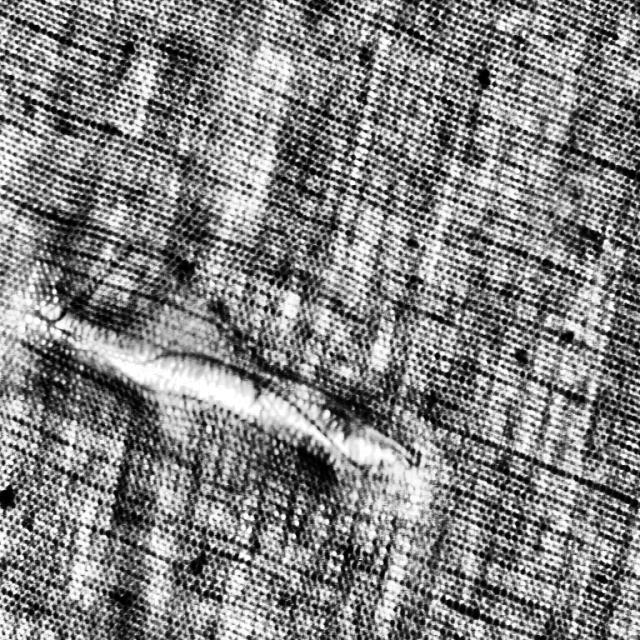cut: (24, 293, 399, 487)
